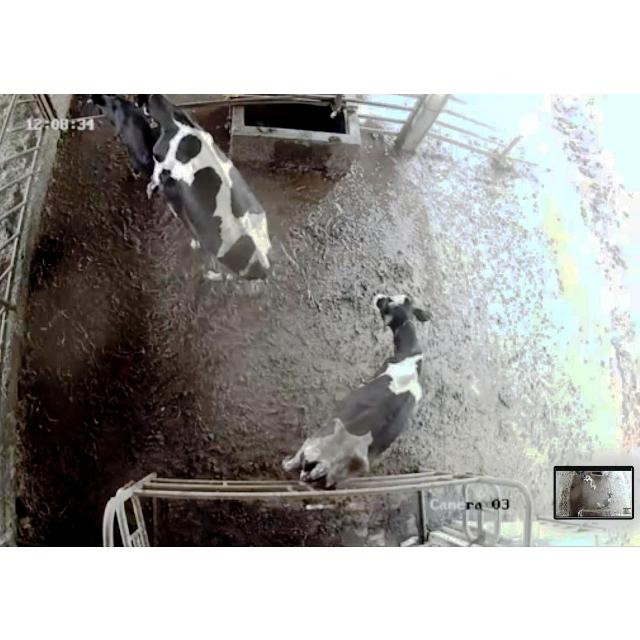ride: (132, 93, 276, 305)
